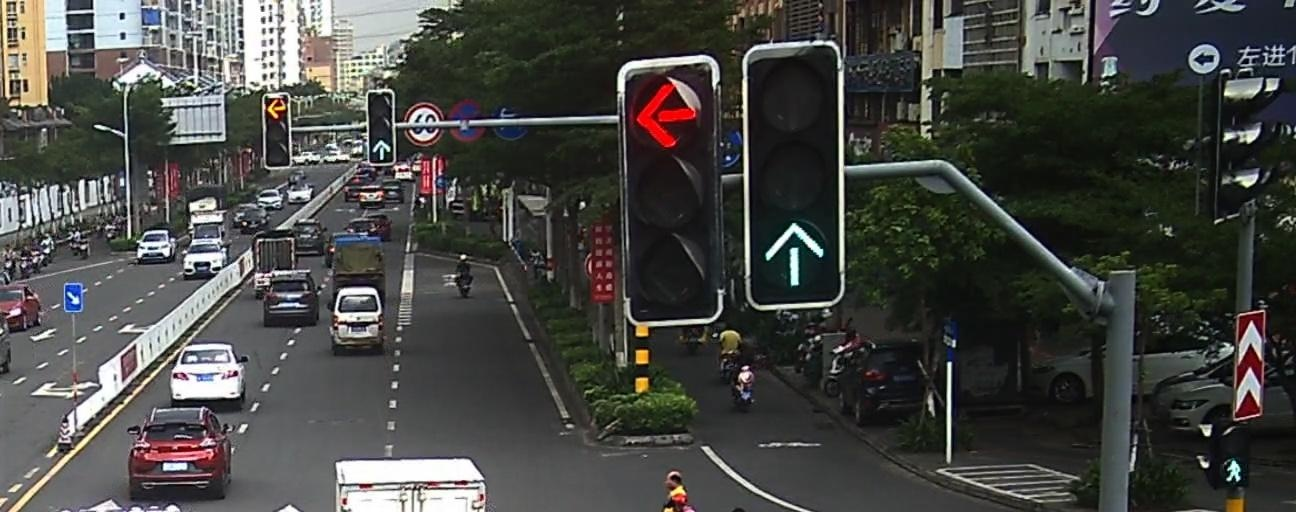greenpeople: (1221, 456, 1250, 485)
greenstraight: (758, 219, 835, 296), (370, 138, 393, 161)
redleft: (632, 80, 703, 151), (262, 96, 287, 121)
